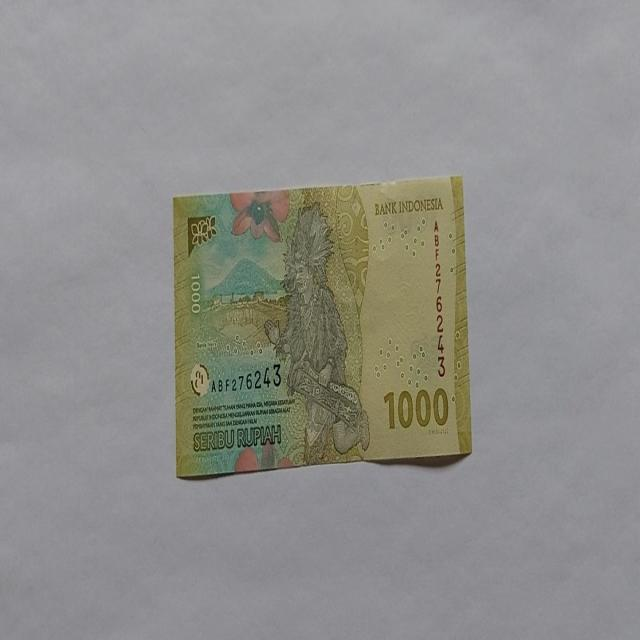seribu rupiah kertas: (172, 173, 472, 479)
